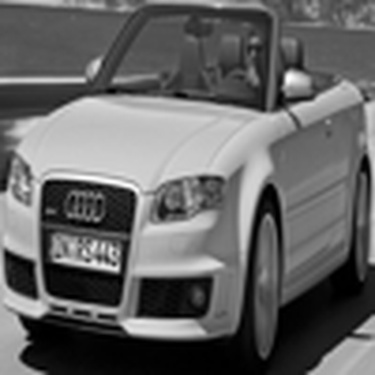car: (11, 4, 368, 340)
